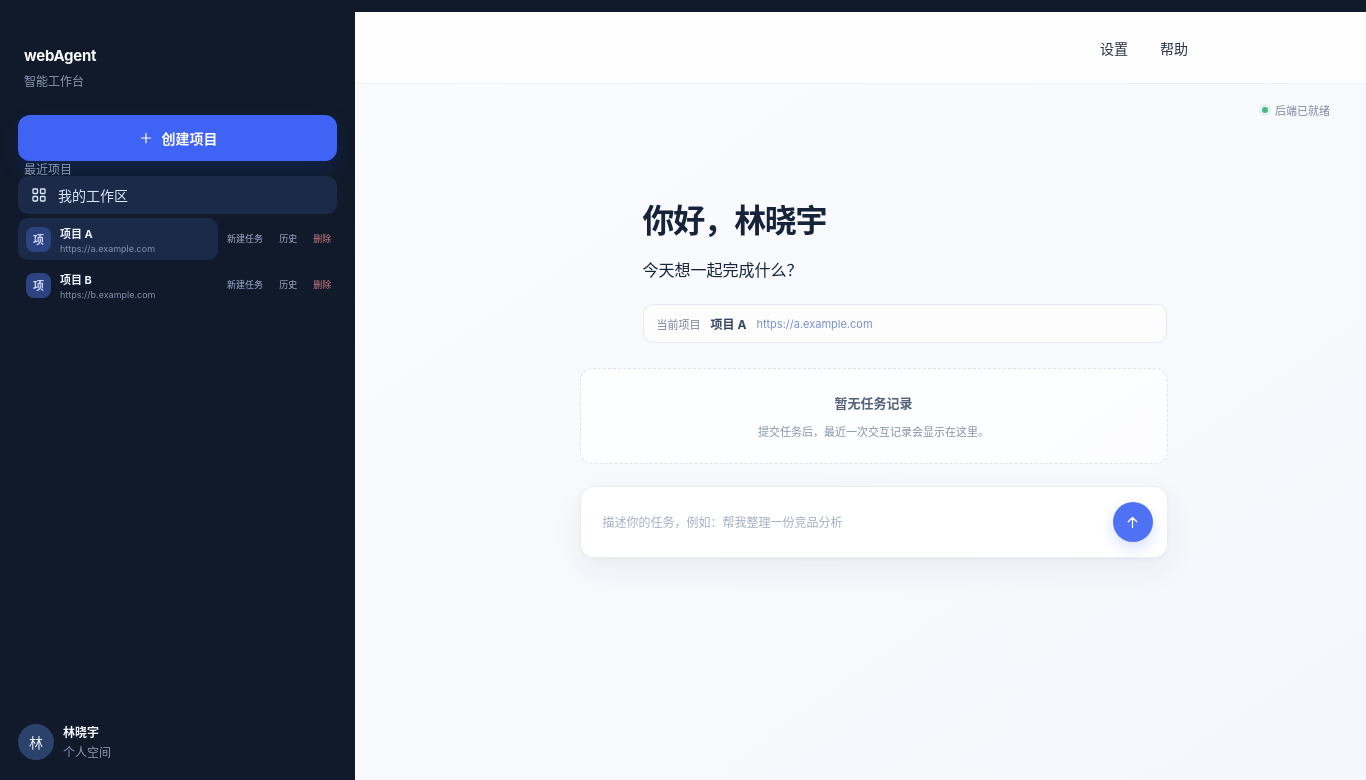
Test: desktop run workspace › starts a blank conversation for the project selected by the new-task button
Expected: the button with aria-label "项目 项目 A" is shown, [18,218,218,260]
Step 1. Type "尚未提交的草稿" into the field named "任务描述" → coordinates (852, 522), box [603,514,1101,530]
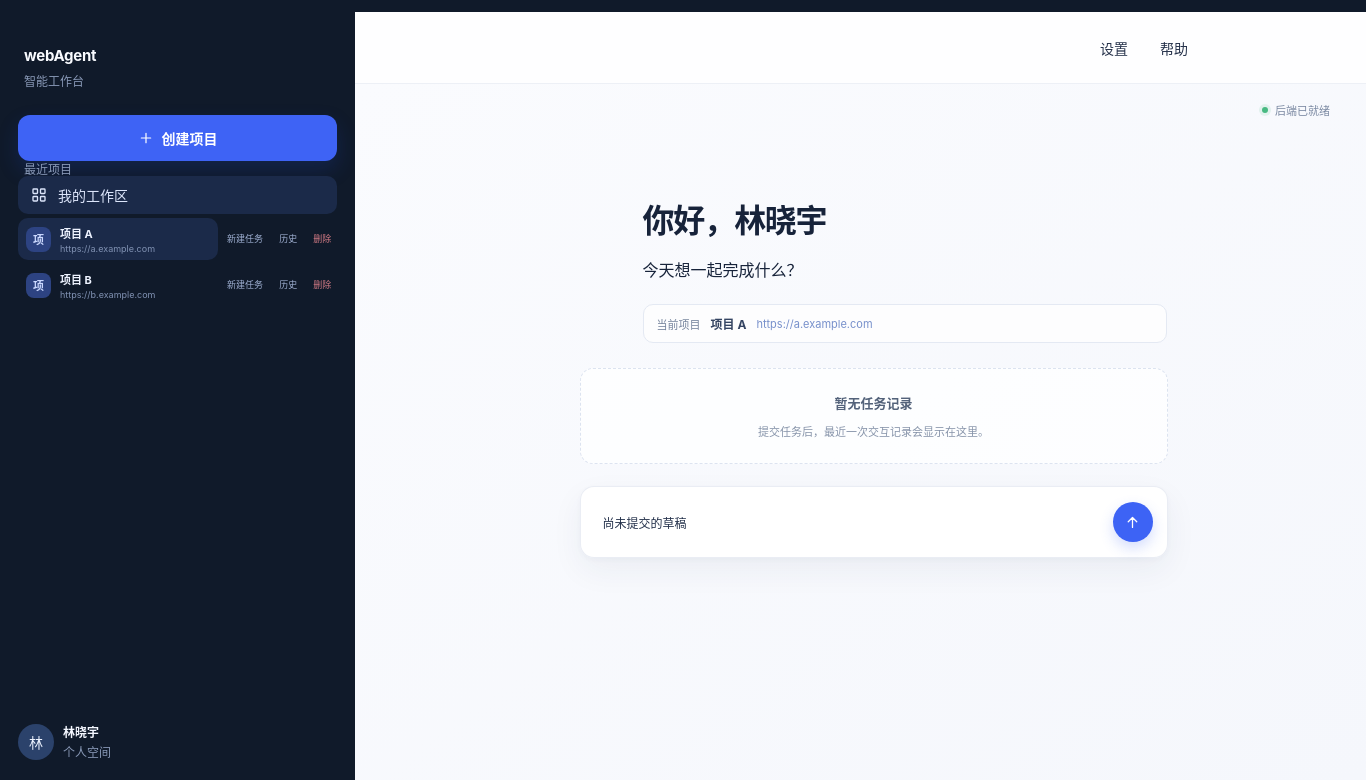
Step 2. Click the button with aria-label "为项目 project-a 新建任务" → coordinates (245, 239), box [221,224,269,254]
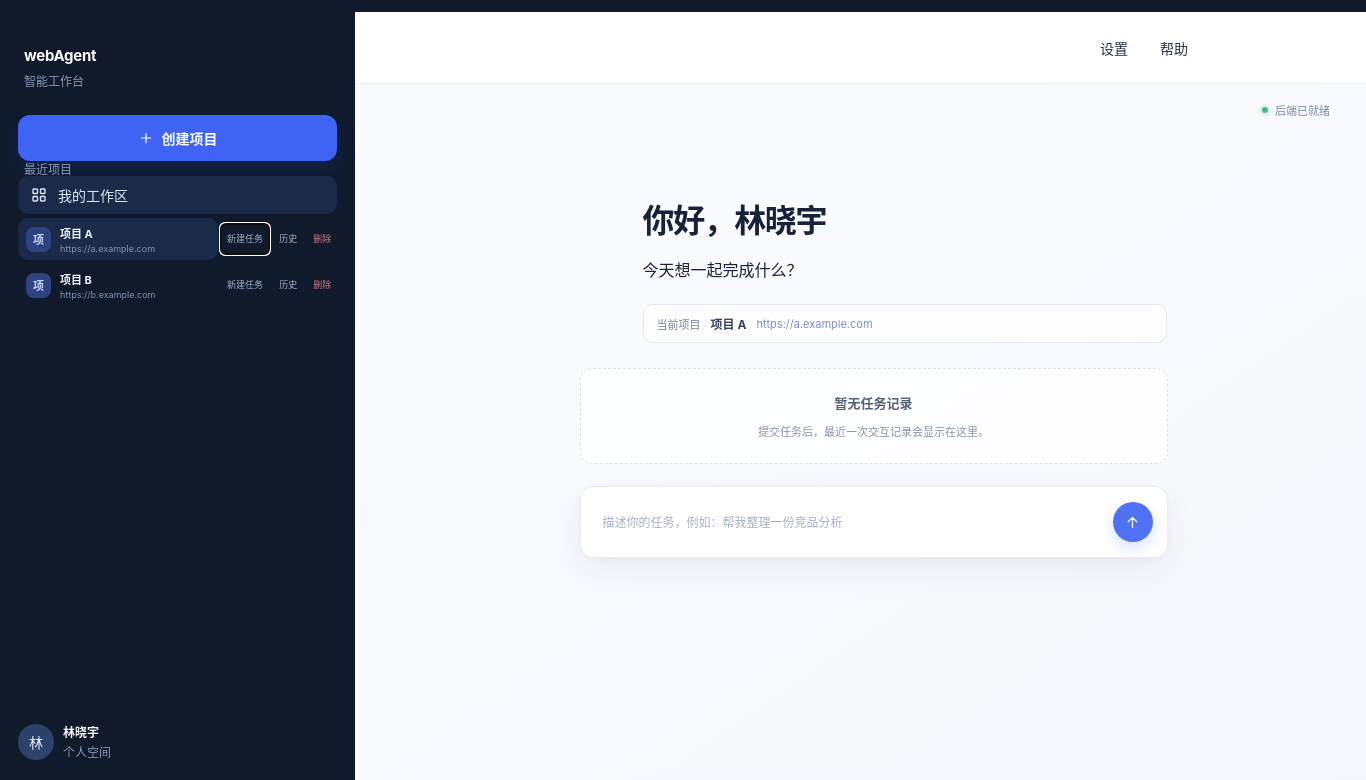
Expected: the text "暂无任务记录" is shown, [835,393,913,412]
Result: the field named "任务描述" is empty at [603,514,1101,530]
Step 3. Click the button with aria-label "为项目 project-b 新建任务" → coordinates (245, 285), box [221,270,269,300]
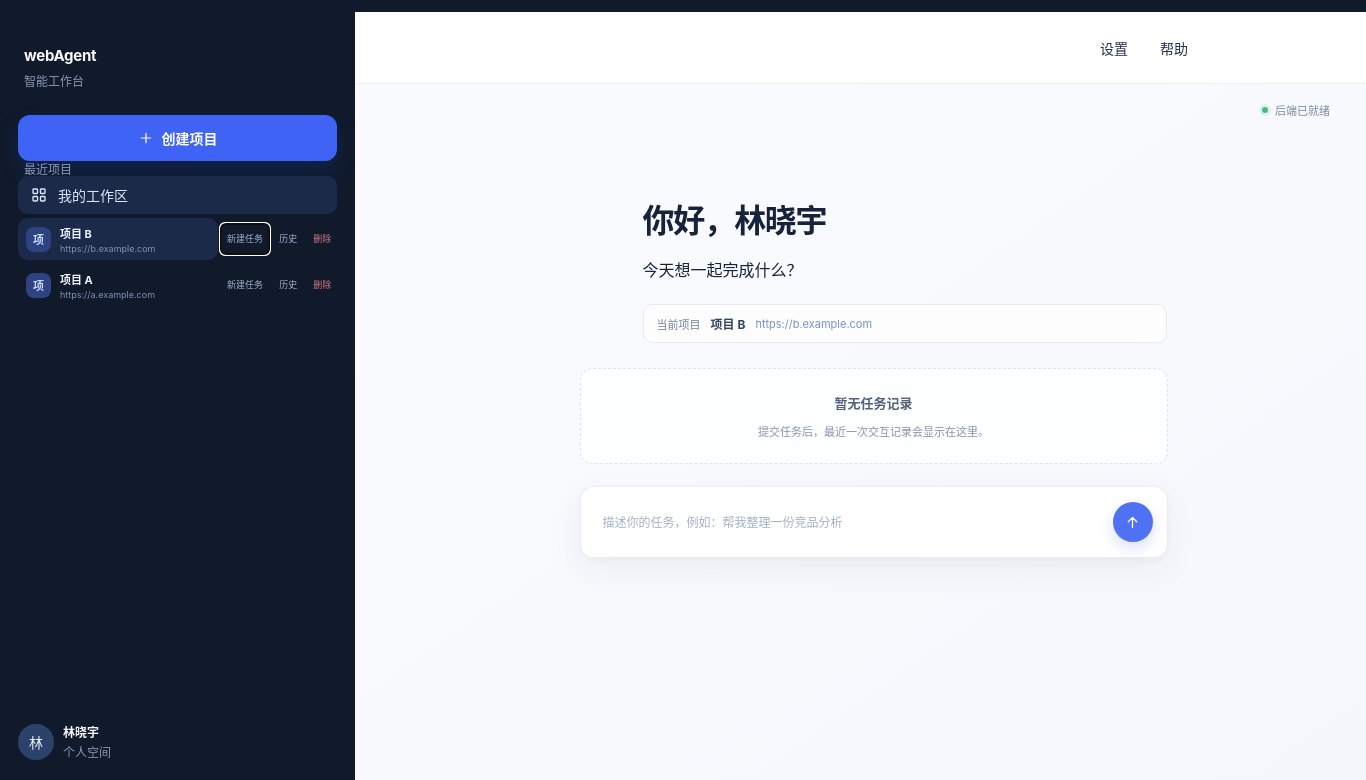
Result: the element named "当前项目：项目 B" is shown at [643,304,1167,343]
